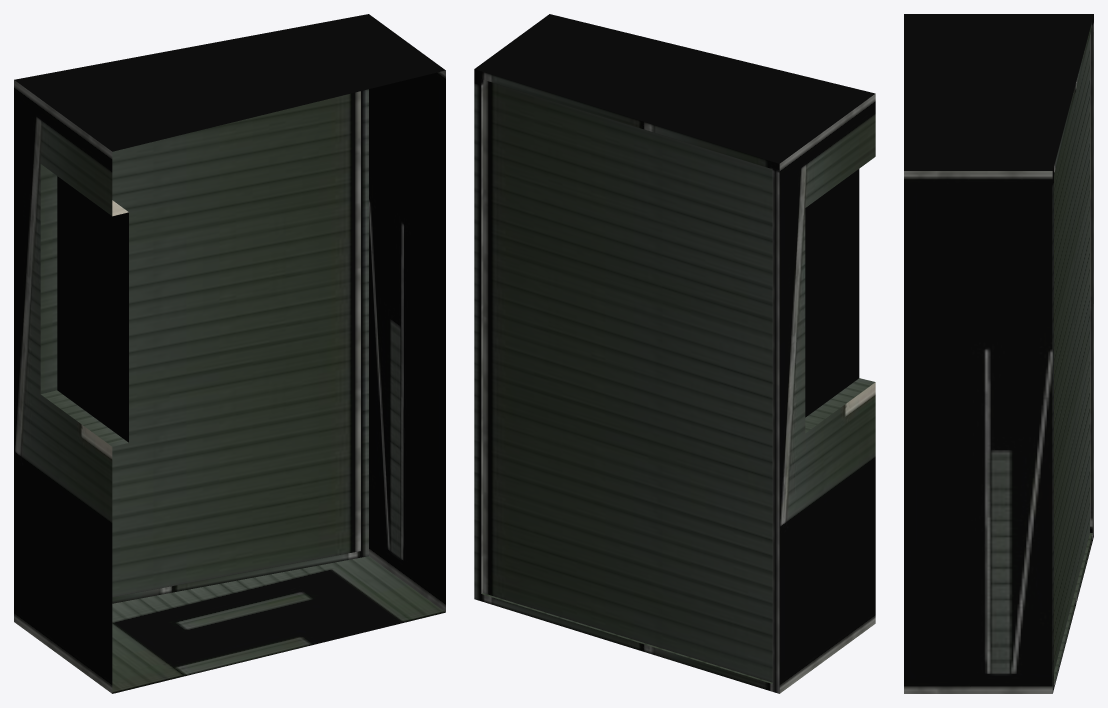
The model's file is quadcoptershed5.glb.
3 views of the same model, side by side, from view 1: azimuth 30°, elevation 25°; view 2: azimuth 150°, elevation 25°; view 3: azimuth 270°, elevation 25° (orthographic). The views are drawn at different scales.
Visible parts, largest first — view 1: QuadCopterShed5; view 2: QuadCopterShed5; view 3: QuadCopterShed5.
Boxes of the visible parts, x1=… form: QuadCopterShed5: x1=14, y1=14, x2=445, y2=693; QuadCopterShed5: x1=474, y1=14, x2=875, y2=693; QuadCopterShed5: x1=904, y1=14, x2=1093, y2=693.
Size of the model in its own units: 6.85 by 10.65 by 3.5.
1 material, 1 textured.
